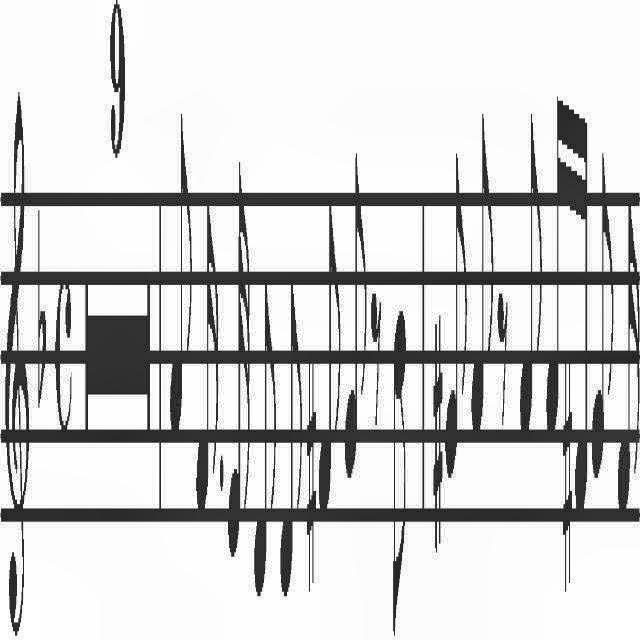Bass-clef: (2, 68, 30, 640)
Bemol: (34, 176, 48, 437)
Diez: (560, 336, 574, 606), (432, 300, 444, 584), (304, 334, 316, 606)
Eighth-note: (163, 78, 193, 460), (442, 140, 470, 508), (341, 151, 367, 521), (388, 254, 412, 640), (318, 175, 342, 557), (469, 118, 495, 470), (516, 110, 542, 452), (278, 274, 302, 638), (252, 278, 276, 622), (592, 133, 614, 491)
Eighth-rest: (370, 273, 384, 441), (498, 267, 510, 461)
Sixteenth-note: (614, 166, 640, 592), (194, 174, 218, 538), (572, 106, 590, 546), (545, 91, 563, 453)
